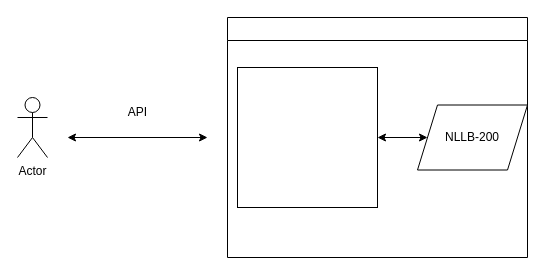
The diagram is 545 pixels wide and 275 high, and some of its shapes have lost their labels. The box of each missing label's shape, as (x1, y1, x2, y2) in pixels:
Русско-мансийский переводчик (веб-сервис): (236, 66, 378, 208)
Сервер: (226, 16, 528, 258)
